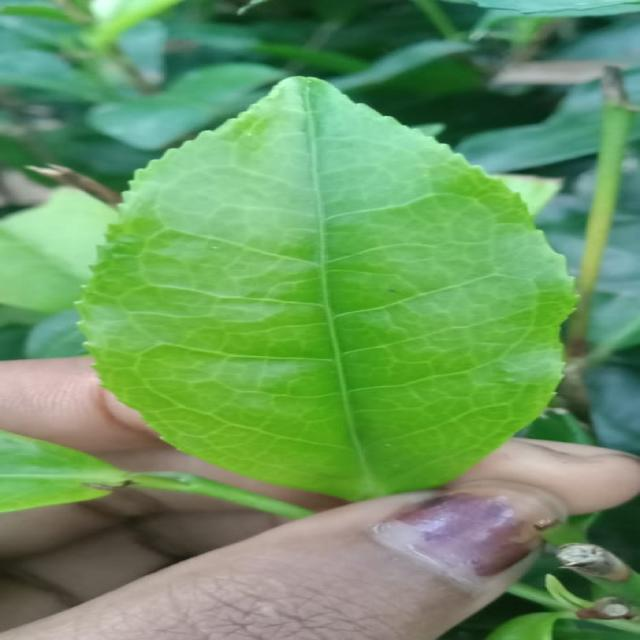Category B(2-4 days): (48, 64, 618, 506)
